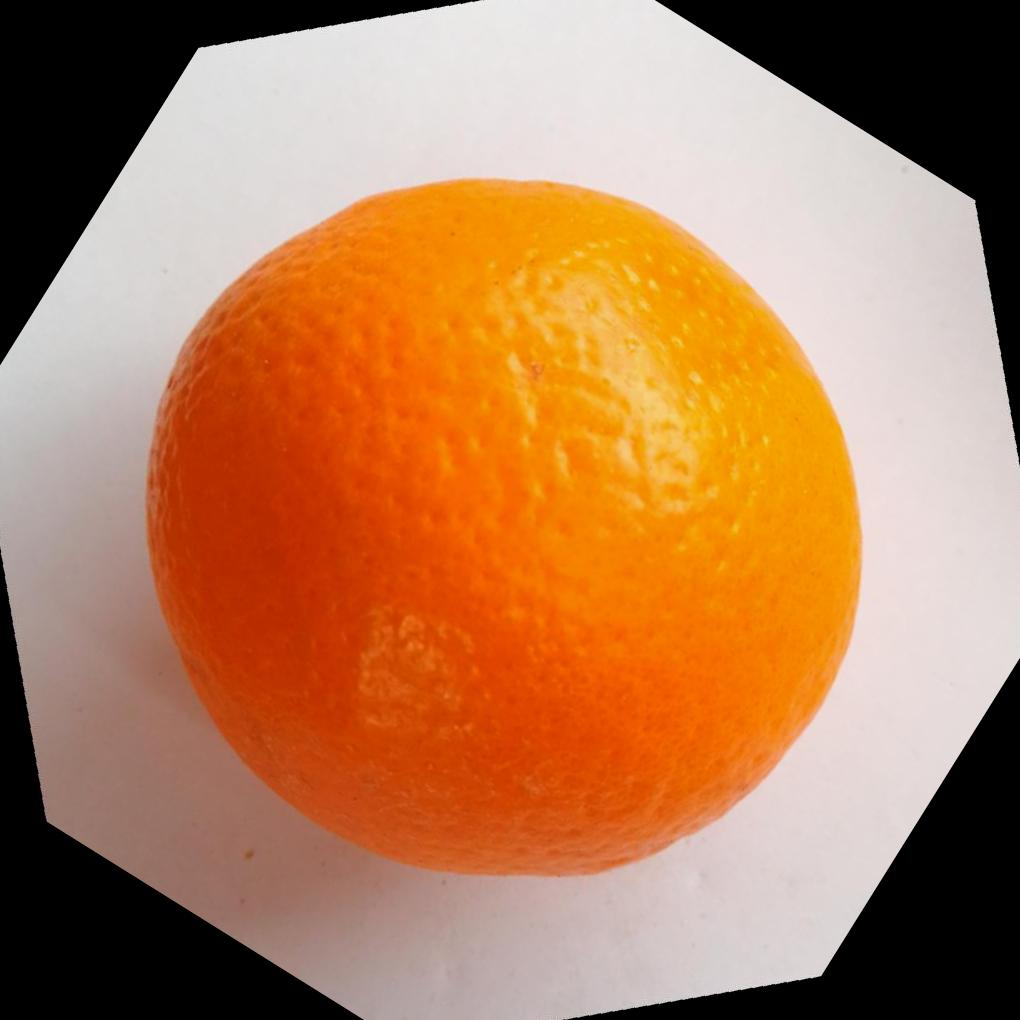FreshGuava: (145, 176, 867, 883)
